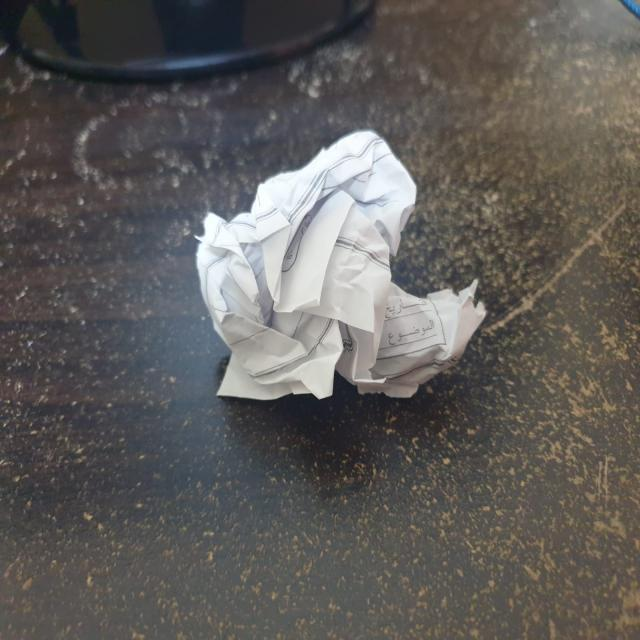Paper: (199, 133, 486, 403)
